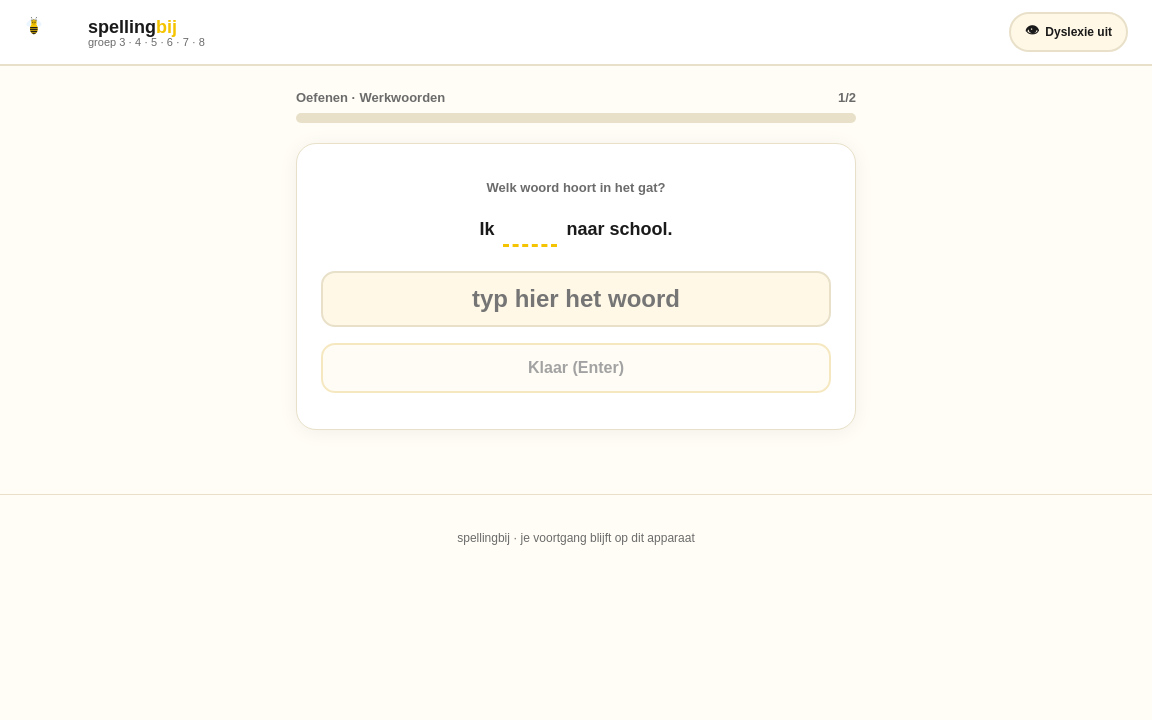
Test: een fout antwoord toont neutraal de juiste vorm + strategie, geen rood/kruis
In the field: (576, 299) [321,271,831,327], type "looop"
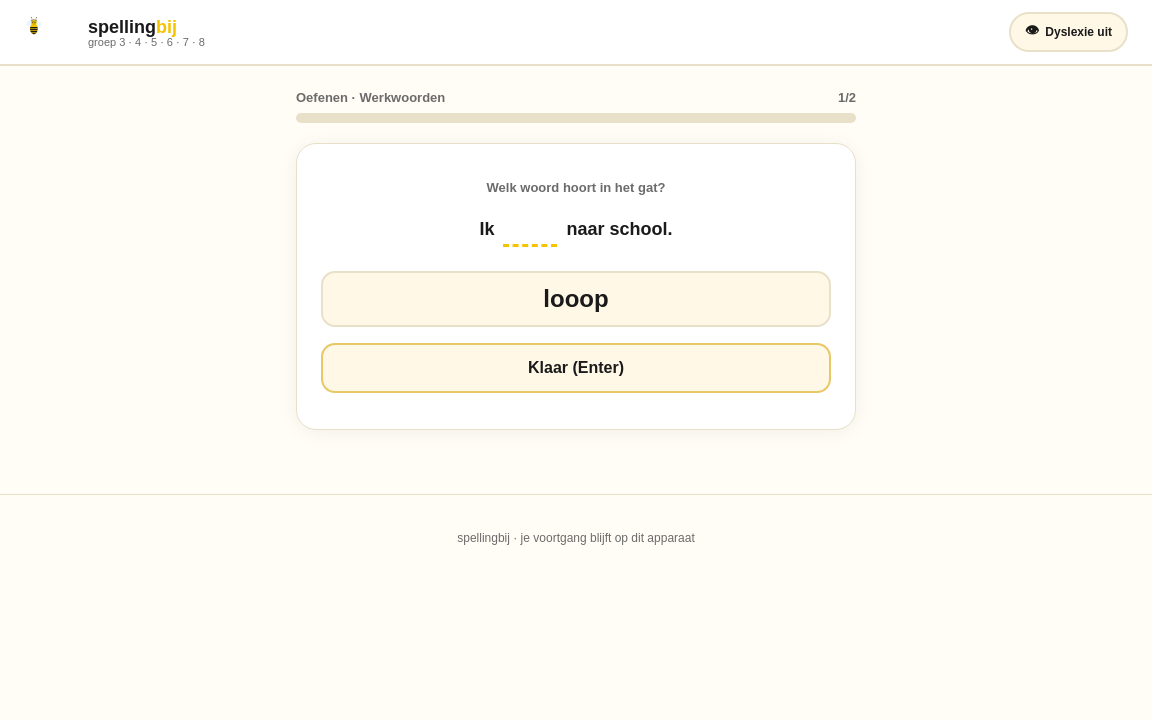
Click the button "Klaar (Enter)": (576, 368) [321,343,831,393]
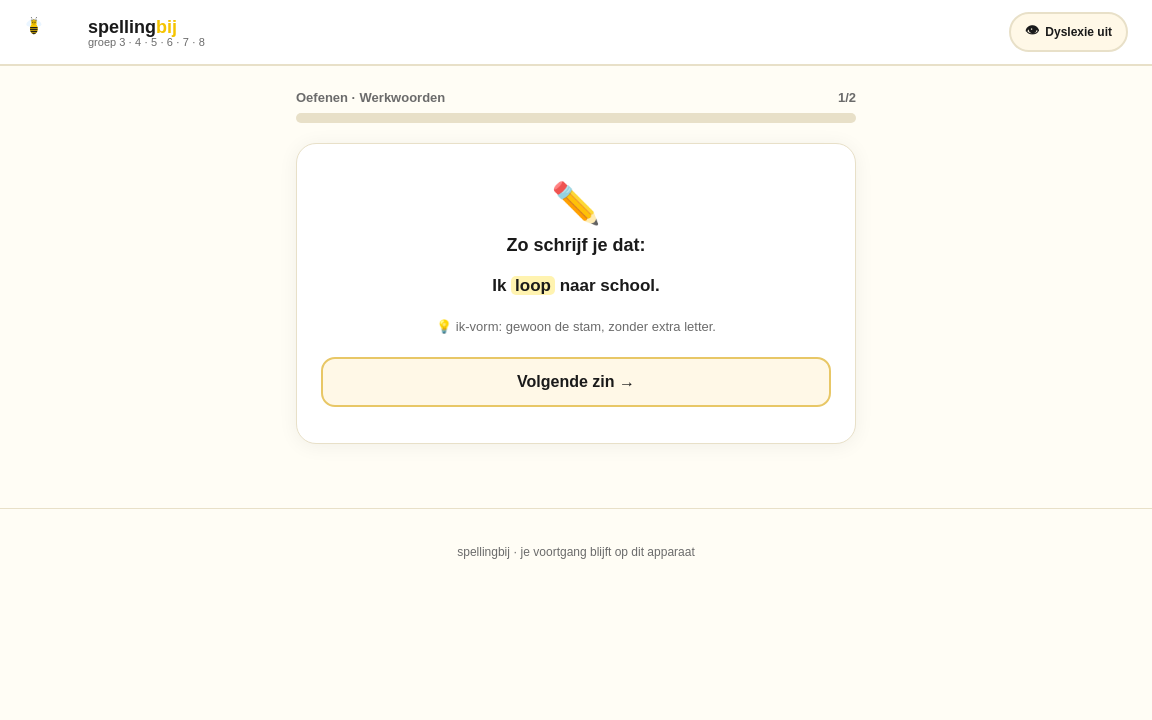
Check: the text "Zo schrijf je dat:" is shown, box [506,235,646,255]
Check: the text "loop" is shown, box [511,276,555,295]
Check: the text "💡 ik-vorm: gewoon de stam, zonder extra letter." is shown, box [436,319,716,334]
